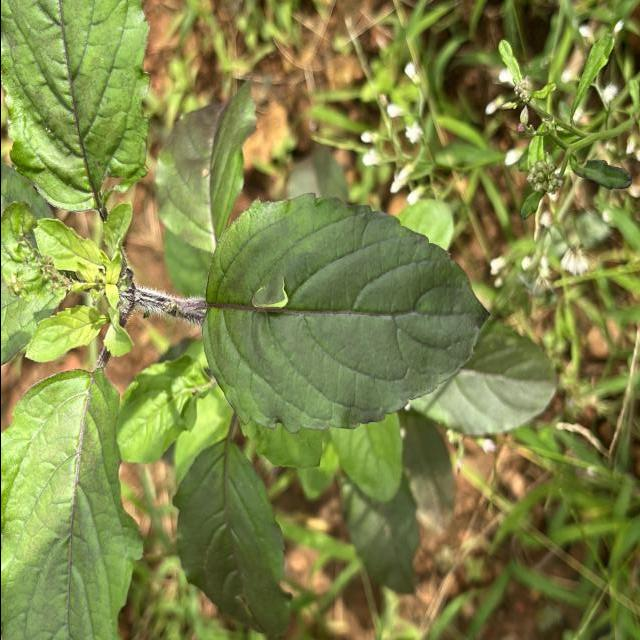Ocimum tenuiflorum: (198, 190, 492, 438)
